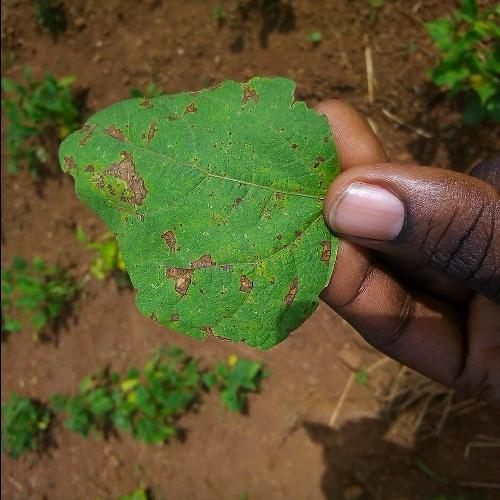hawar: (227, 226, 335, 323), (66, 94, 164, 160), (152, 218, 221, 310), (92, 143, 159, 216), (170, 73, 232, 130), (238, 84, 266, 112)
